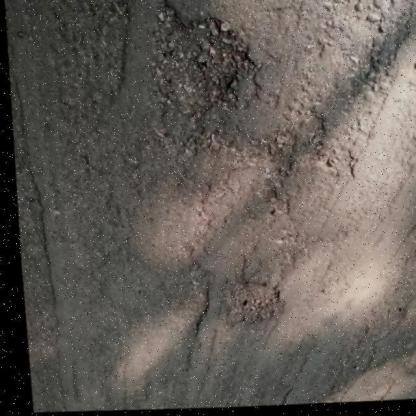pothole: (140, 0, 264, 133), (216, 276, 279, 330)
